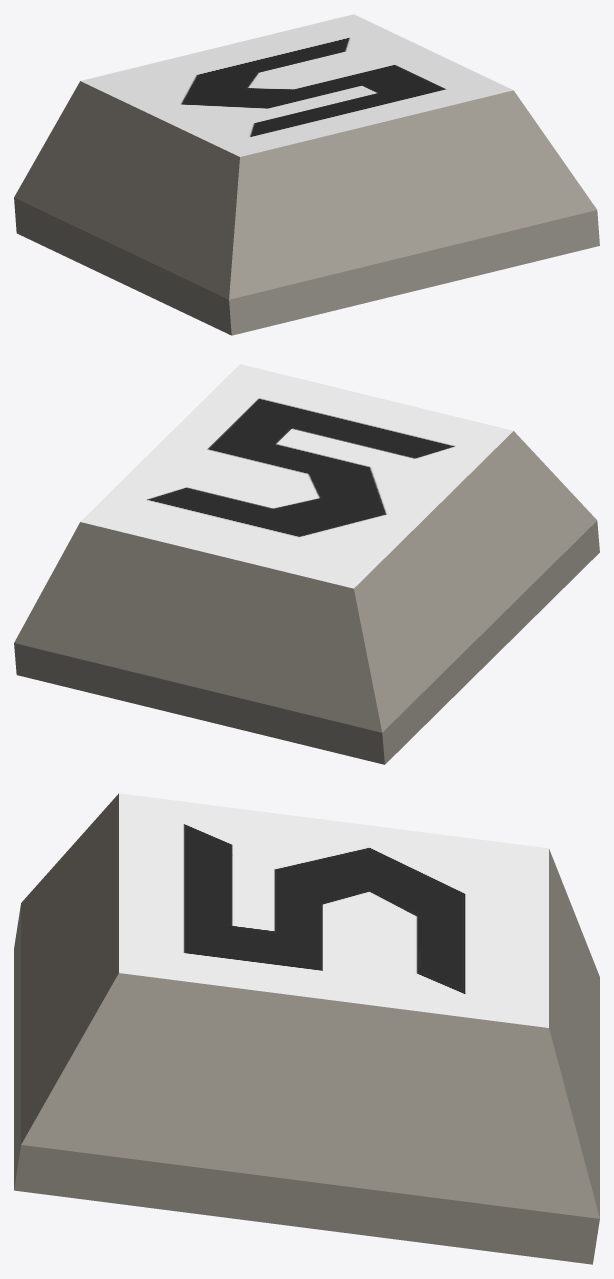
The model's file is key5.glb.
3 views of the same model, one above another, from view 1: azimuth 30°, elevation 25°; view 2: azimuth 150°, elevation 25°; view 3: azimuth 270°, elevation 25° (orthographic). The views are drawn at different scales.
Visible parts, largest first — view 1: Cube.010; view 2: Cube.010; view 3: Cube.010.
Boxes of the visible parts, <box> form: Cube.010: <box>14,14,599,335</box>; Cube.010: <box>14,364,599,764</box>; Cube.010: <box>14,793,599,1264</box>.
Bounding box in the file's own units: 0.1926 × 0.0968 × 0.1972.
Materials: 2 (1 with a texture image).
